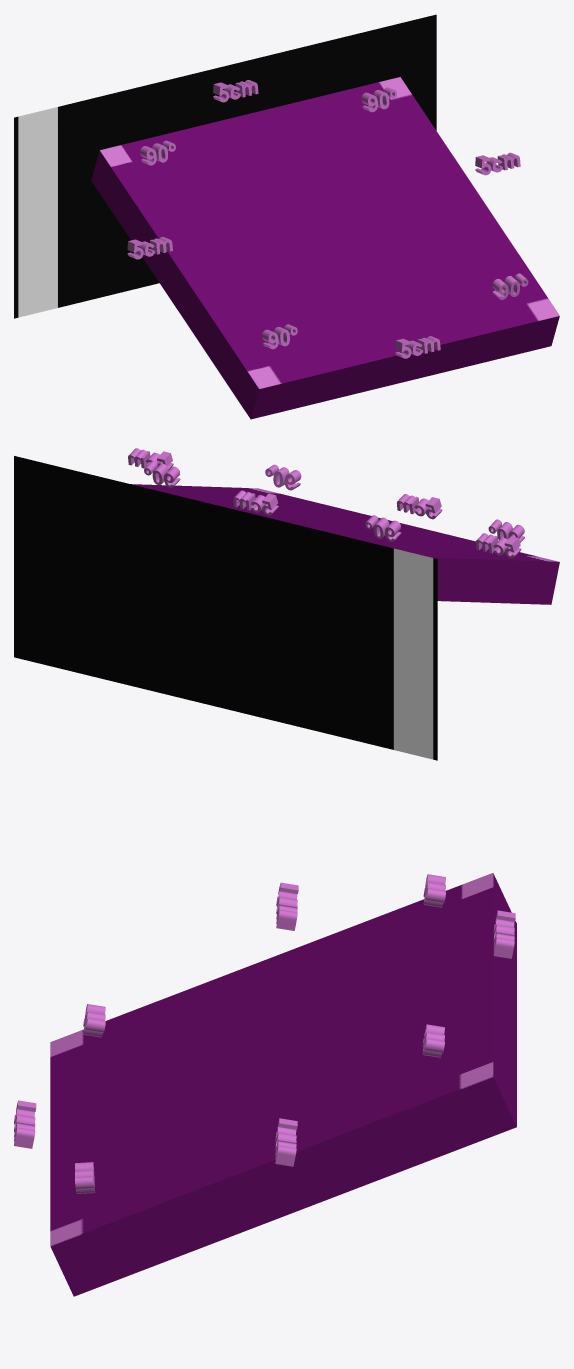
The model's file is pergunta28Obj.fbx.
The picture shows the model from 3 angles, top to bottom: view 1: azimuth 30°, elevation 25°; view 2: azimuth 150°, elevation 25°; view 3: azimuth 270°, elevation 25°; orthographic projection. The views are drawn at different scales.
Visible parts, largest first — view 1: root (×2), node_id72, node_id76, node_id74, node_id62, node_id53, node_id51, node_id49, node_id38; view 2: root (×2), node_id74, node_id62, node_id76, node_id72, node_id49, node_id38, node_id53, node_id51; view 3: root, node_id74, node_id72, node_id62, node_id76.
Part boxes in pixels (<box>): root (×2): <box>14,14,559,419</box>; node_id72: <box>475,152,520,175</box>; node_id76: <box>395,336,440,358</box>; node_id74: <box>127,237,172,259</box>; node_id62: <box>213,80,258,102</box>; node_id53: <box>492,273,528,299</box>; node_id51: <box>262,324,297,349</box>; node_id49: <box>361,87,396,112</box>; node_id38: <box>140,140,175,165</box>; root (×2): <box>14,456,559,760</box>; node_id74: <box>475,533,521,558</box>; node_id62: <box>233,490,278,515</box>; node_id76: <box>397,494,442,519</box>; node_id72: <box>128,448,173,469</box>; node_id49: <box>144,461,180,487</box>; node_id38: <box>365,515,401,541</box>; node_id53: <box>265,464,301,490</box>; node_id51: <box>488,519,524,542</box>; root: <box>50,873,516,1296</box>; node_id74: <box>276,882,298,930</box>; node_id72: <box>275,1118,297,1166</box>; node_id62: <box>493,910,515,958</box>; node_id76: <box>14,1100,36,1148</box>.
Size of the model in its own units: 0.55 by 0.2529 by 0.4431.
4 materials, 2 textured.
